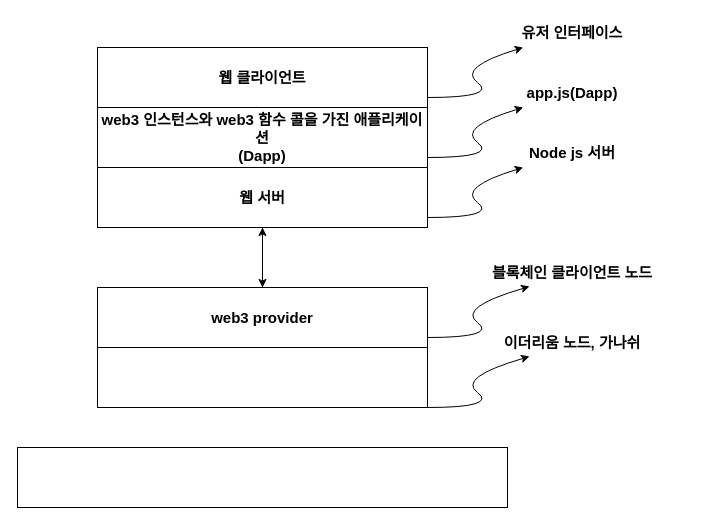
This 725x525 diagram has some shape labels left out. The box of each missing label's shape, as (x1, y1, x2, y2) in pixels:
블록체인 네트워크: (16, 446, 508, 508)
스마트 컨트랙트와 블록체인 기록을 포함하는 블록체인 노드: (96, 346, 428, 408)
